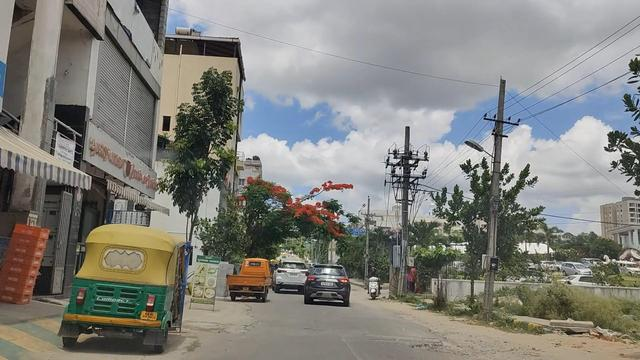RoadDamages: (345, 319, 501, 360), (212, 305, 273, 340)
